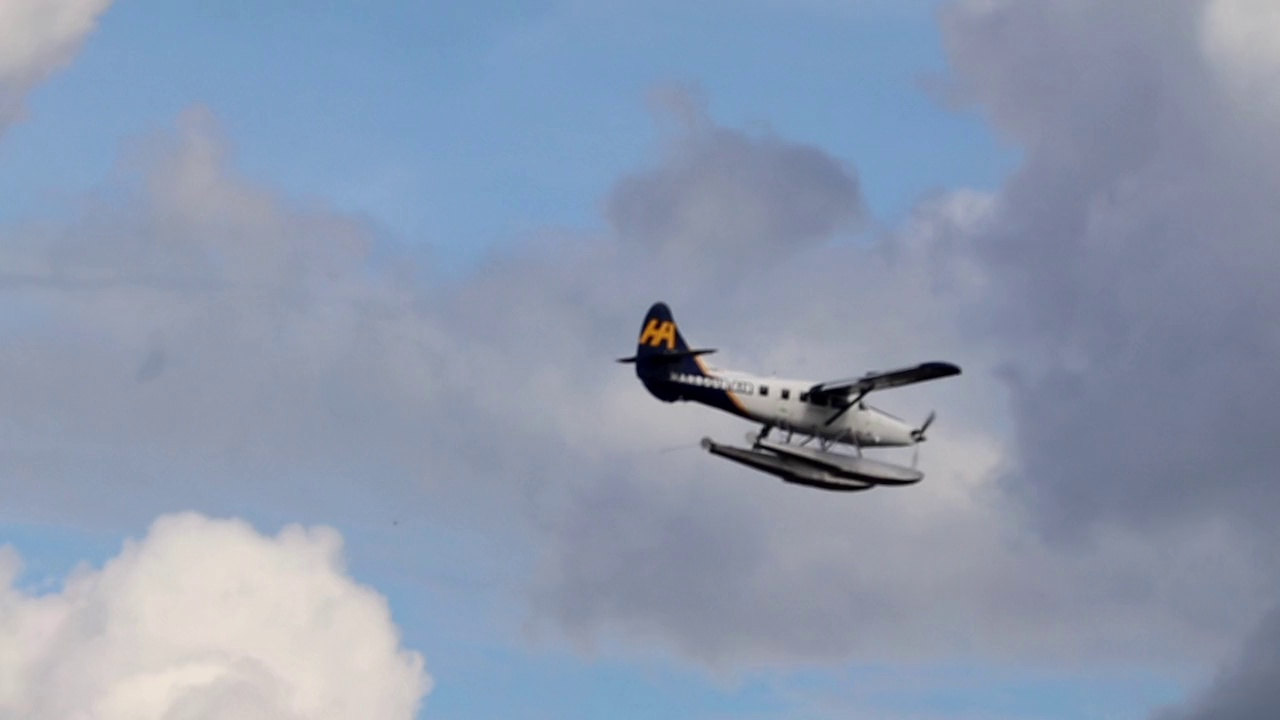plane: (616, 298, 961, 491)
